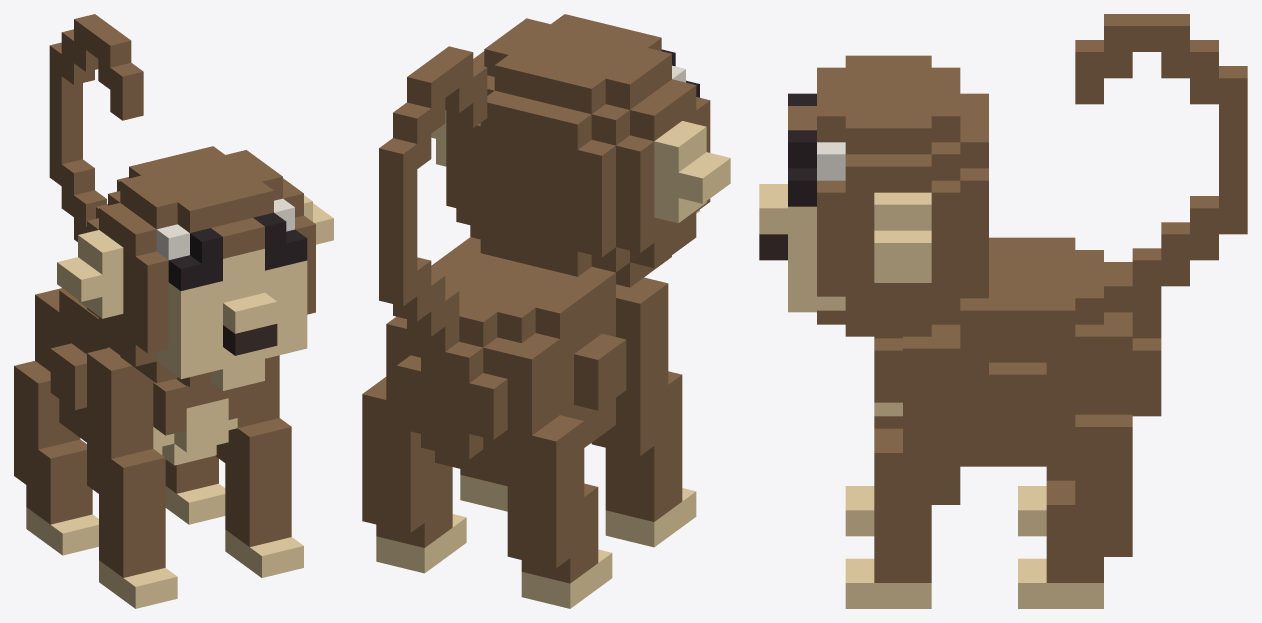
File: monkey.obj
The picture shows the model from 3 angles, left to right: view 1: azimuth 30°, elevation 25°; view 2: azimuth 150°, elevation 25°; view 3: azimuth 270°, elevation 25°; orthographic projection. The views are drawn at different scales.
Visible parts, largest first — view 1: monkey; view 2: monkey; view 3: monkey.
Part boxes in pixels (box(x1,y1,x2,y2)): monkey: box(14, 14, 333, 608); monkey: box(362, 14, 730, 608); monkey: box(759, 14, 1247, 608).
Size of the model in its own units: 1.2 by 2.1 by 1.7.
Materials: 1 (1 with a texture image).
